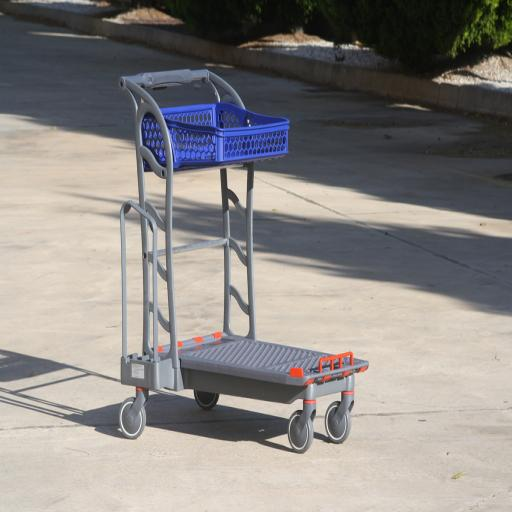shopping_cart: (118, 64, 368, 456)
